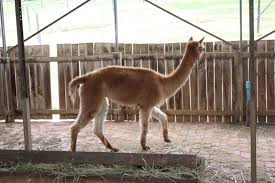alpaca: (67, 36, 207, 152)
